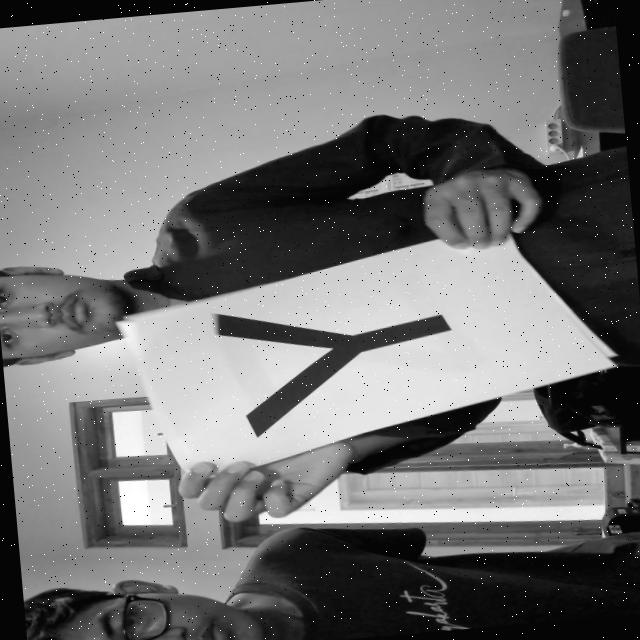y: (207, 277, 467, 443)
